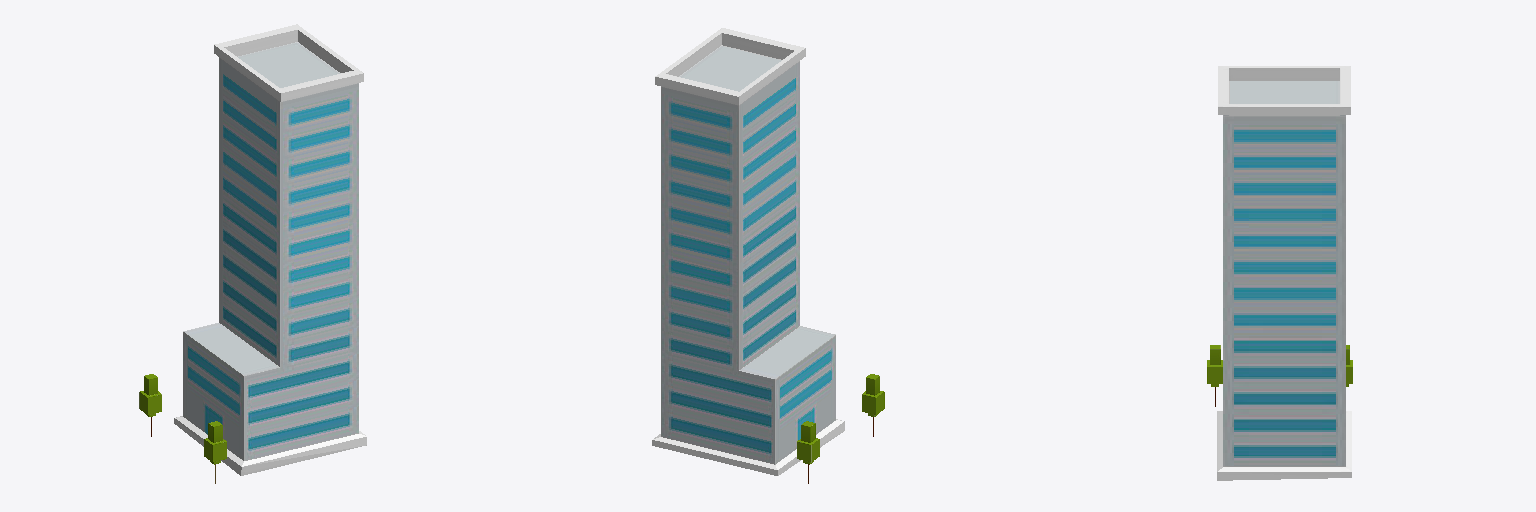
3 renders of one model, left to right at view 1: azimuth 30°, elevation 25°; view 2: azimuth 150°, elevation 25°; view 3: azimuth 270°, elevation 25°, orthographic.
Parts seen in each view (by area): view 1: living_education_2lvl_Mesh.133, Tree_2_3_61.044_Mesh.305, Tree_2_3_61.043_Mesh.304; view 2: living_education_2lvl_Mesh.133, Tree_2_3_61.043_Mesh.304, Tree_2_3_61.044_Mesh.305; view 3: living_education_2lvl_Mesh.133, Tree_2_3_61.044_Mesh.305.
Boxes of the visible parts, <box> form: living_education_2lvl_Mesh.133: <box>174,24,366,475</box>; Tree_2_3_61.044_Mesh.305: <box>204,421,226,483</box>; Tree_2_3_61.043_Mesh.304: <box>139,374,161,436</box>; living_education_2lvl_Mesh.133: <box>652,28,844,475</box>; Tree_2_3_61.043_Mesh.304: <box>797,421,819,483</box>; Tree_2_3_61.044_Mesh.305: <box>862,374,884,436</box>; living_education_2lvl_Mesh.133: <box>1217,66,1351,480</box>; Tree_2_3_61.044_Mesh.305: <box>1207,345,1222,406</box>.
Size of the model in its own units: 1.74 by 3.88 by 1.38.
2 materials, 2 textured.